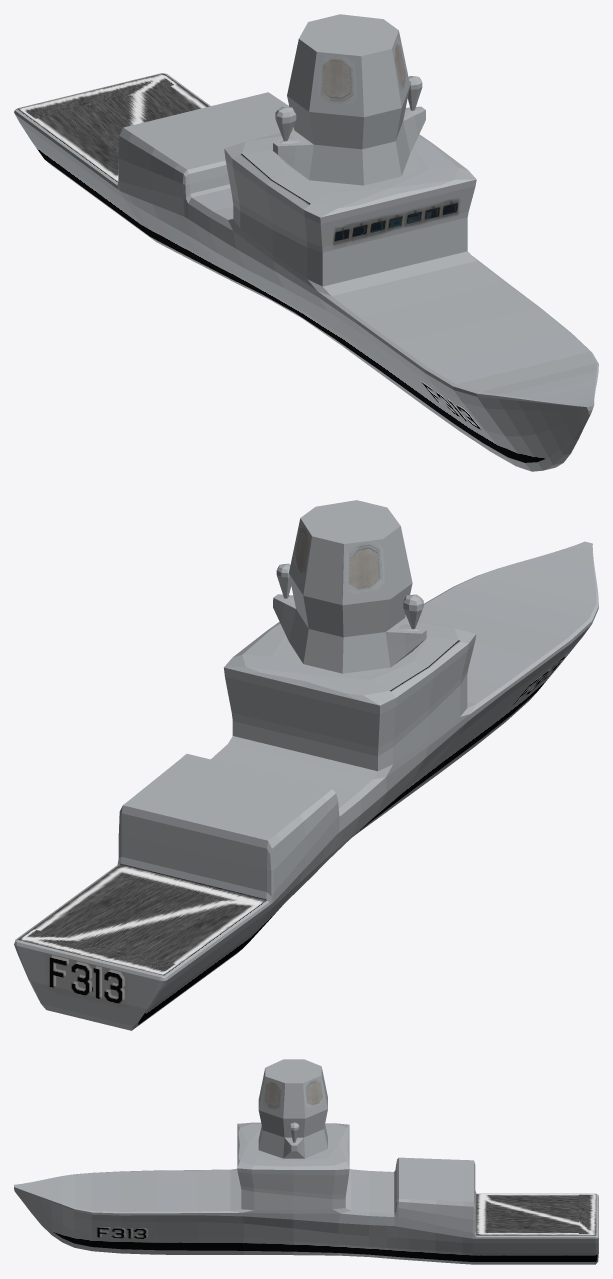
The model's file is KNM-Helge.gltf.
3 views of the same model, one above another, from view 1: azimuth 30°, elevation 25°; view 2: azimuth 150°, elevation 25°; view 3: azimuth 270°, elevation 25° (orthographic). The views are drawn at different scales.
Parts seen in each view (by area): view 1: Ship; view 2: Ship; view 3: Ship.
Boxes of the visible parts, left/top/right/bottom form: Ship: left=14, top=14, right=598, bottom=471; Ship: left=14, top=500, right=598, bottom=1030; Ship: left=14, top=1059, right=598, bottom=1264.
Bounding box in the file's own units: 2.15 × 3.82 × 11.21.
1 material, 1 textured.
